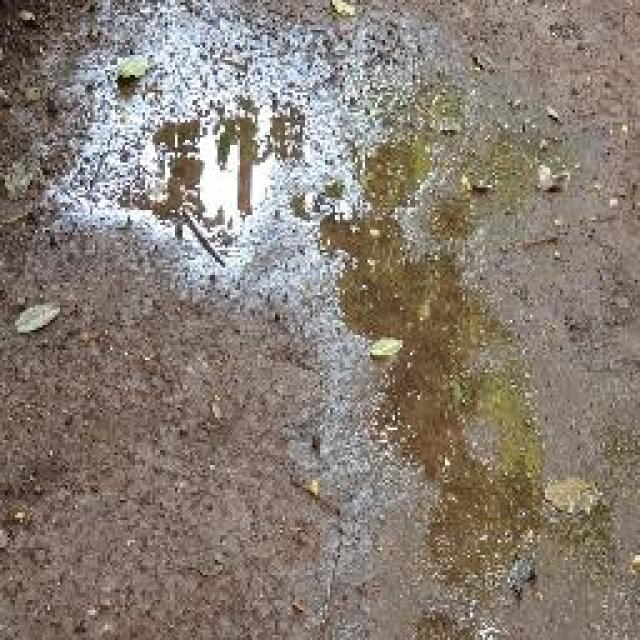puddle: (320, 134, 521, 573), (101, 96, 309, 283)
